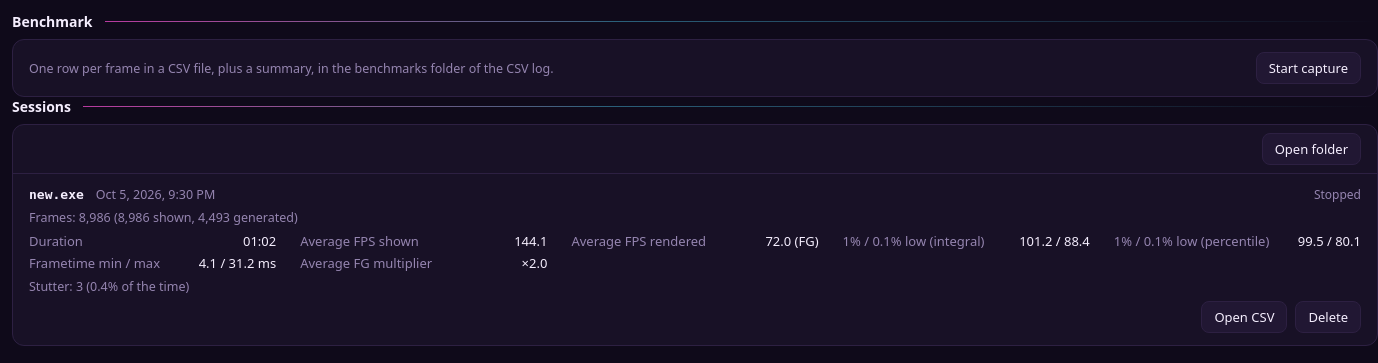
Scenario: delete asks then removes the entry
Click the button "Delete".
click(1328, 317)  # box [1296,301,1361,333]
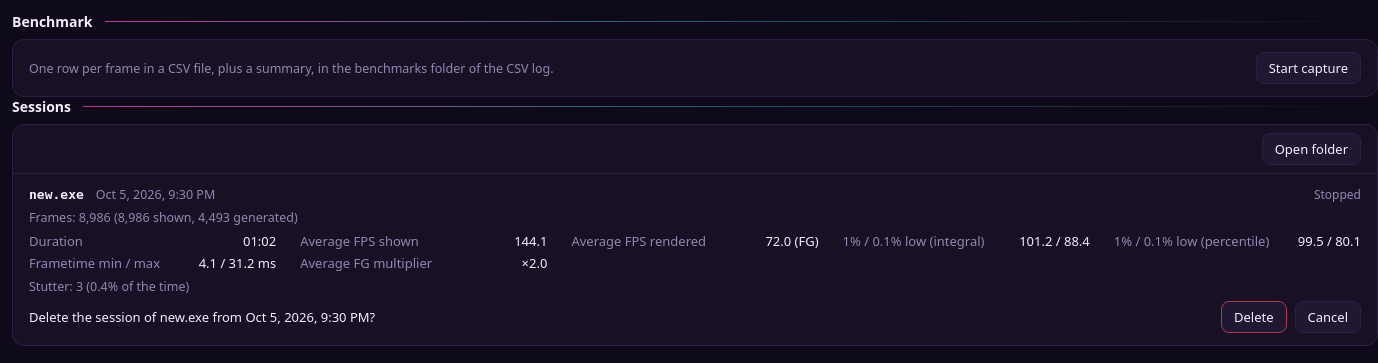
expect the text "Delete the session of new.exe from Oct 5, 2026, 9:30 PM?" is shown: met, box [29,308,375,326]
Click the button "Cancel".
click(1328, 317)  # box [1294,301,1361,333]
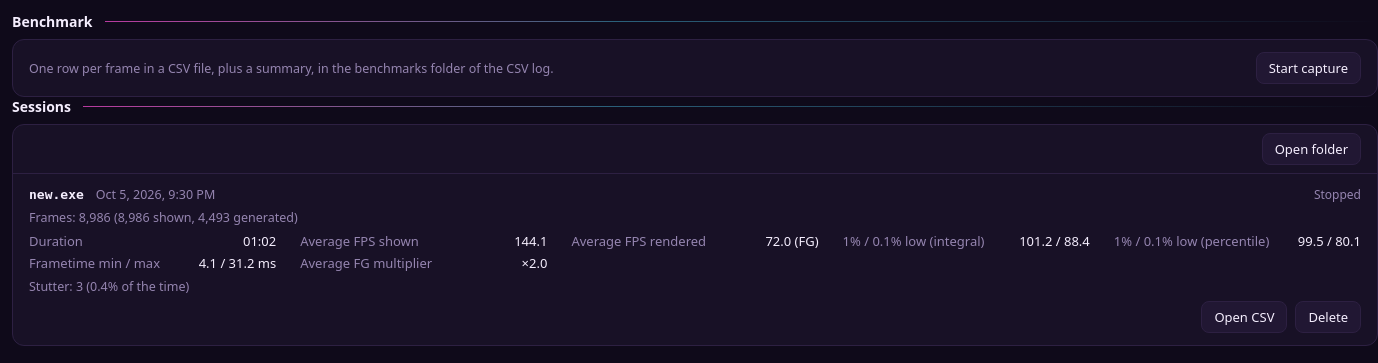
Click the button "Delete".
click(1328, 317)  # box [1296,301,1361,333]
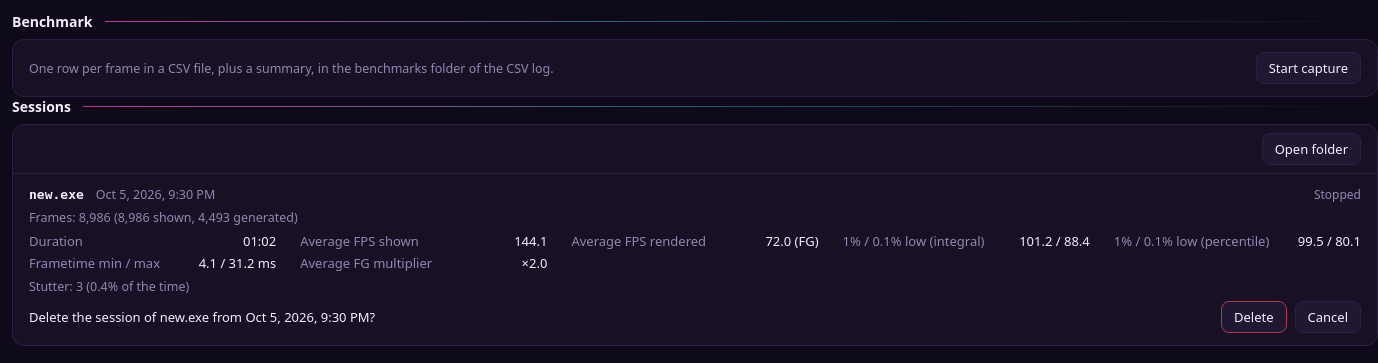
Click the button "Delete".
click(1254, 317)  # box [1221,301,1286,333]
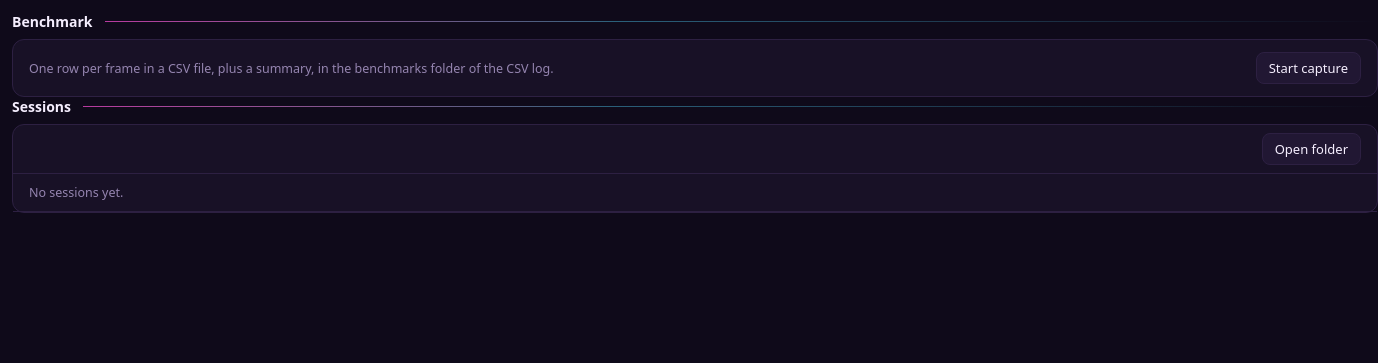
expect the text "new.exe" is gone: met
expect the text "No sessions yet." is shown: met, box [13,173,1377,211]
